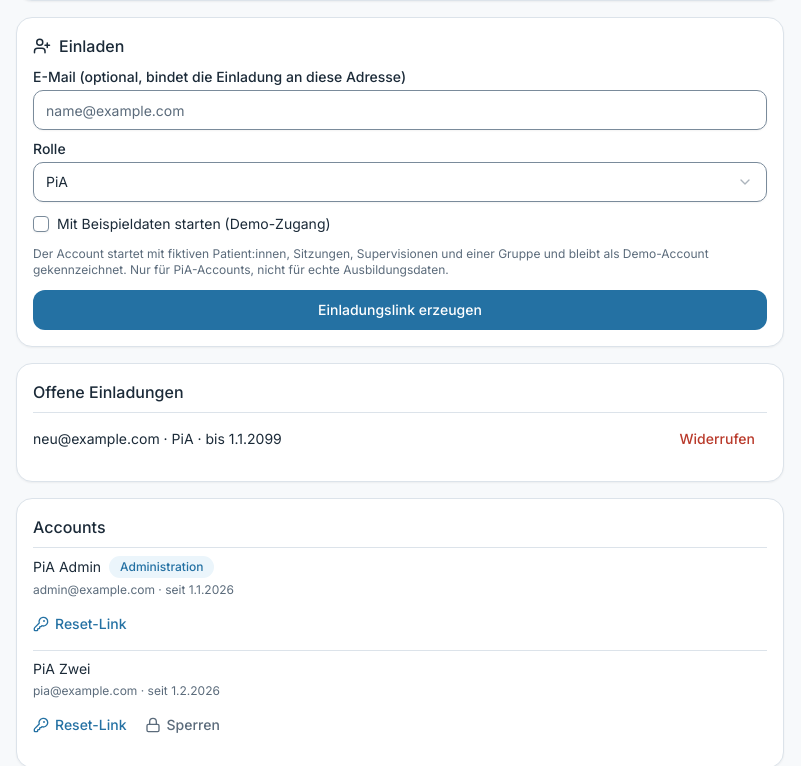
Scenario: AdminClient › meldet, wenn die Zwischenablage nicht verfügbar ist, und lässt den Link markierbar
(page scrolled)
Click the button "Reset-Link" below "pia@example.com": x=80, y=725 [33, 707, 126, 743]
(page scrolled)
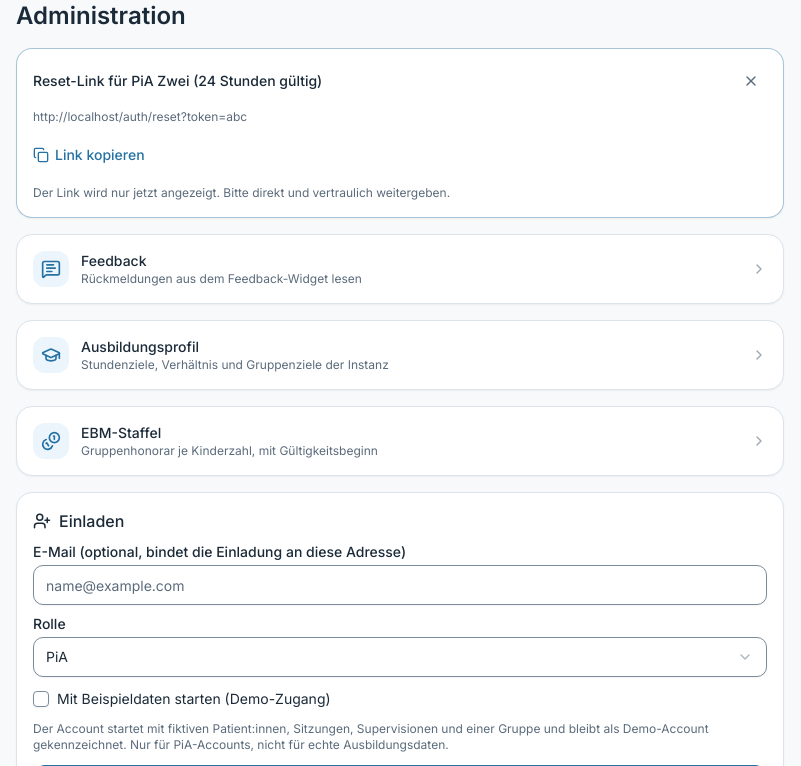
Click the button "Link kopieren": x=100, y=154 [33, 137, 767, 173]
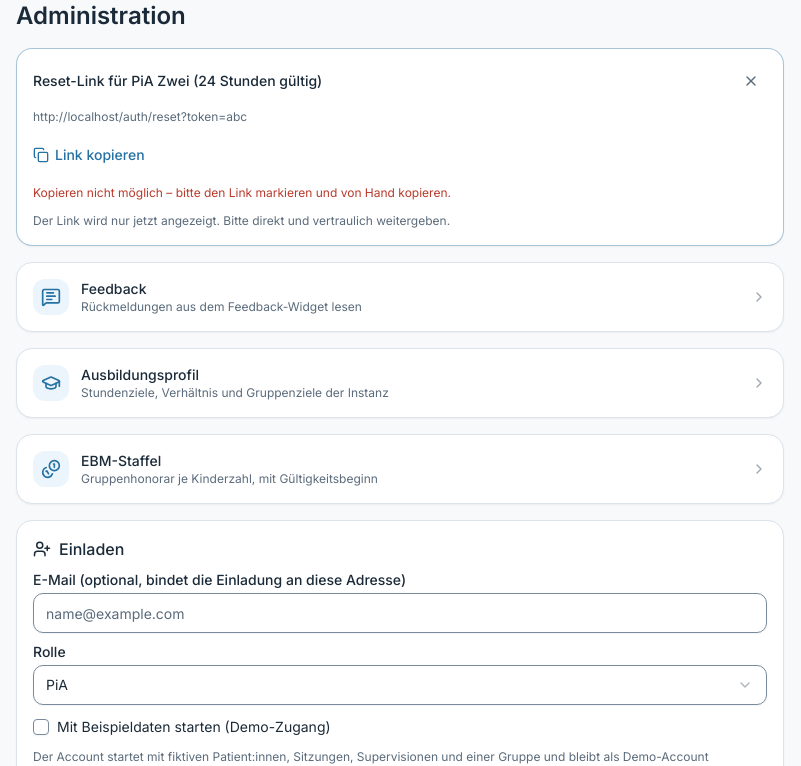
Result: the text "Reset-Link für PiA Zwei (24 Stunden gültig)" is shown at [33, 71, 322, 91]
Result: the message shows "Kopieren nicht möglich" at [33, 185, 451, 200]
